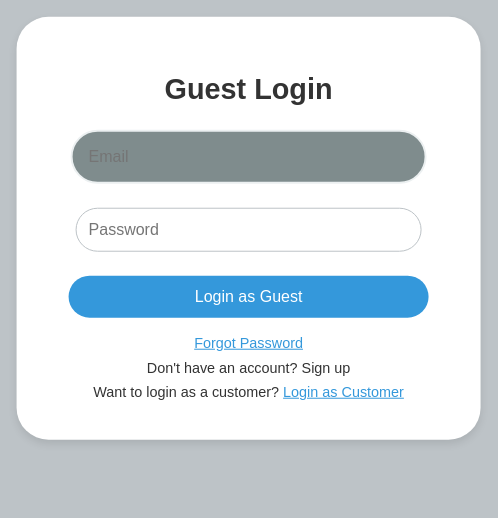
GuestLogin › clears error message on input field change
Step 1. Click the button "Login as Guest" → (249, 297), box top-left (69, 276), bottom-right (429, 318)
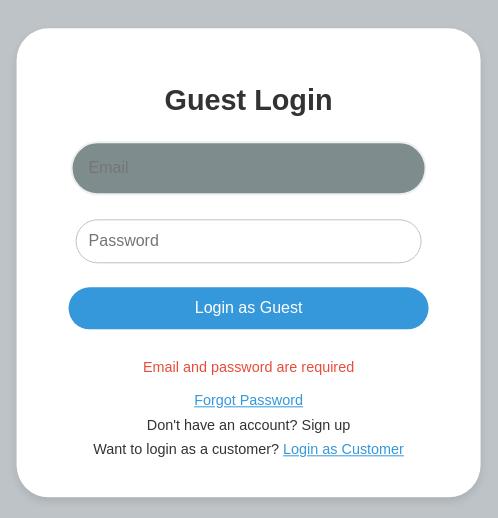
Expected: the text "Email and password are required" is shown, top-left (143, 360), bottom-right (354, 376)
Step 2. Type "guest@example.com" into the field with placeholder "Email" → (249, 168), box top-left (71, 141), bottom-right (427, 195)
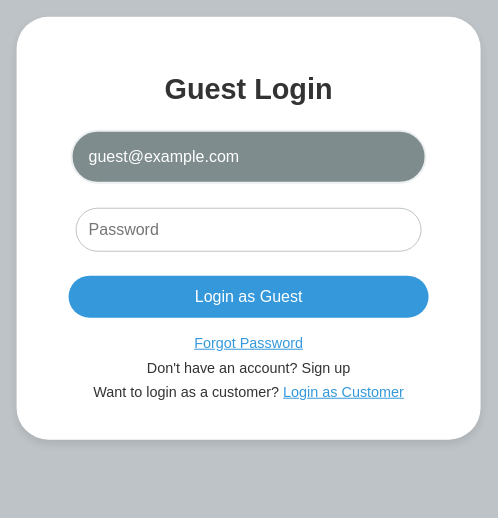
Expected: the text "Email and password are required" is gone
Step 3. Click the button "Login as Guest" → (249, 297), box top-left (69, 276), bottom-right (429, 318)
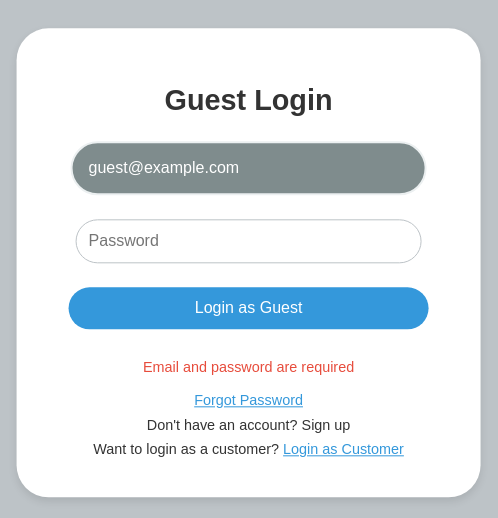
Expected: the text "Email and password are required" is shown, top-left (143, 360), bottom-right (354, 376)
Step 4. Type "password" into the password field with placeholder "Password" → (249, 241), box top-left (76, 219), bottom-right (422, 263)
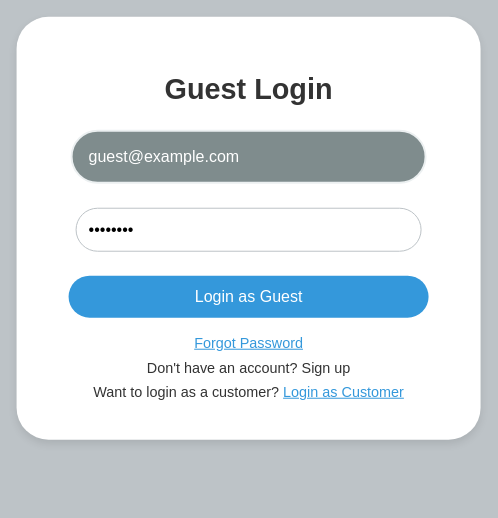
Expected: the text "Email and password are required" is gone
